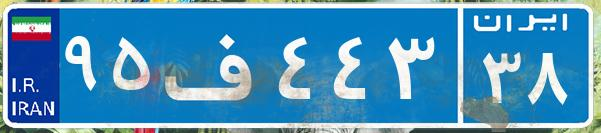3: (385, 28, 445, 110), (475, 38, 525, 113)
4: (273, 28, 330, 110), (330, 28, 385, 110)
5: (110, 28, 158, 105)
8: (525, 38, 570, 115)
9: (57, 26, 110, 107)
ف: (158, 15, 273, 115)
